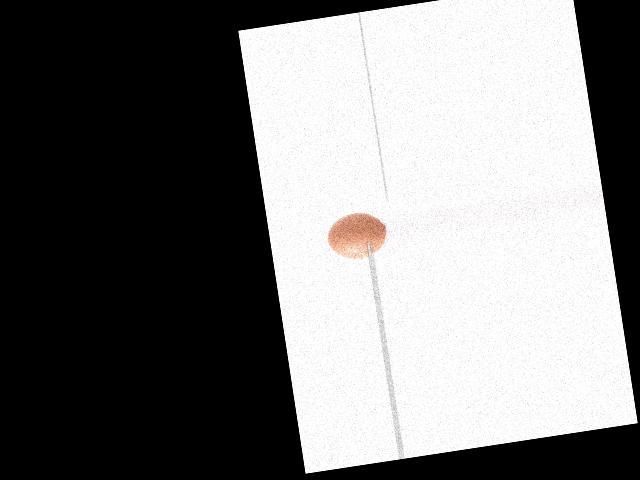egg: (324, 209, 388, 263)
